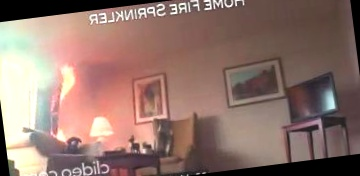fire: (47, 47, 98, 110)
